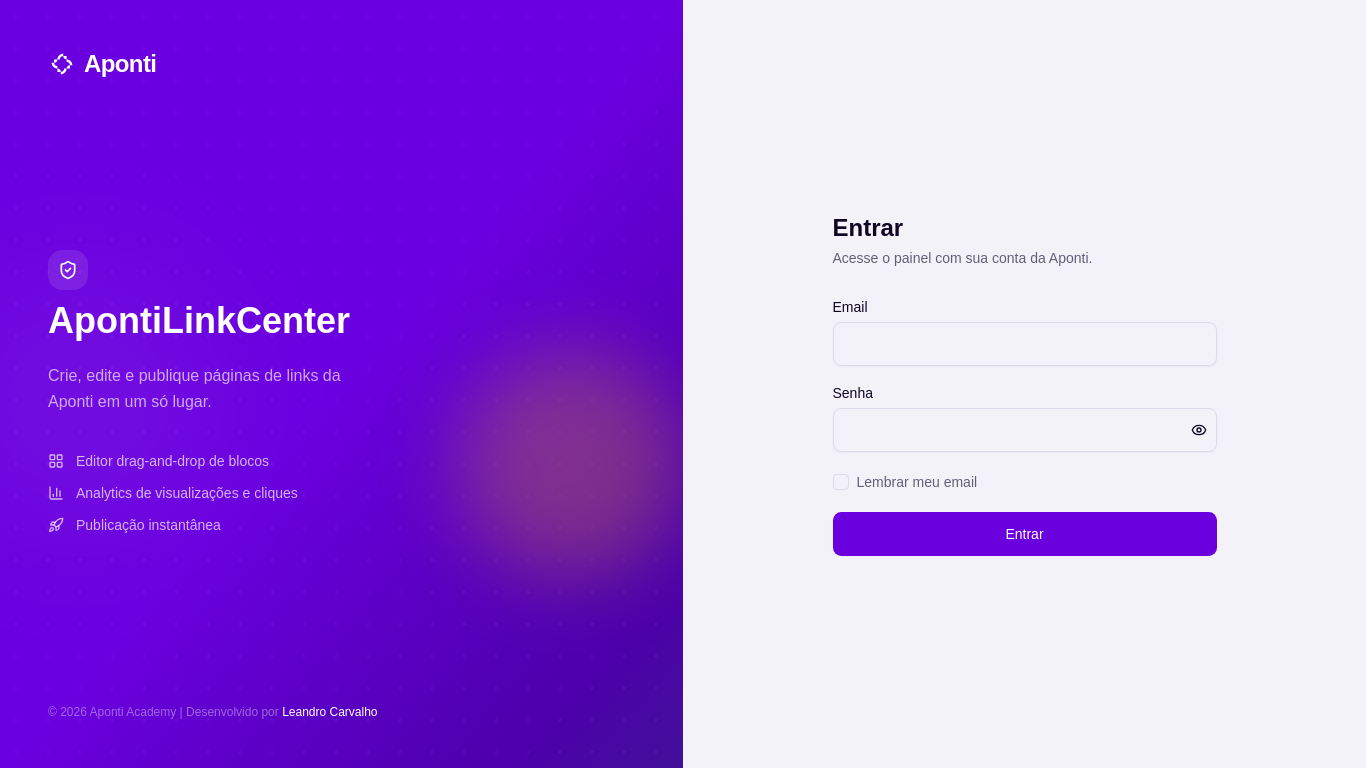
Test case: LoginPage › valida campos obrigatorios
Click the button "Entrar". click: (1024, 534)
box: x1=832 y1=512 x2=1216 y2=556
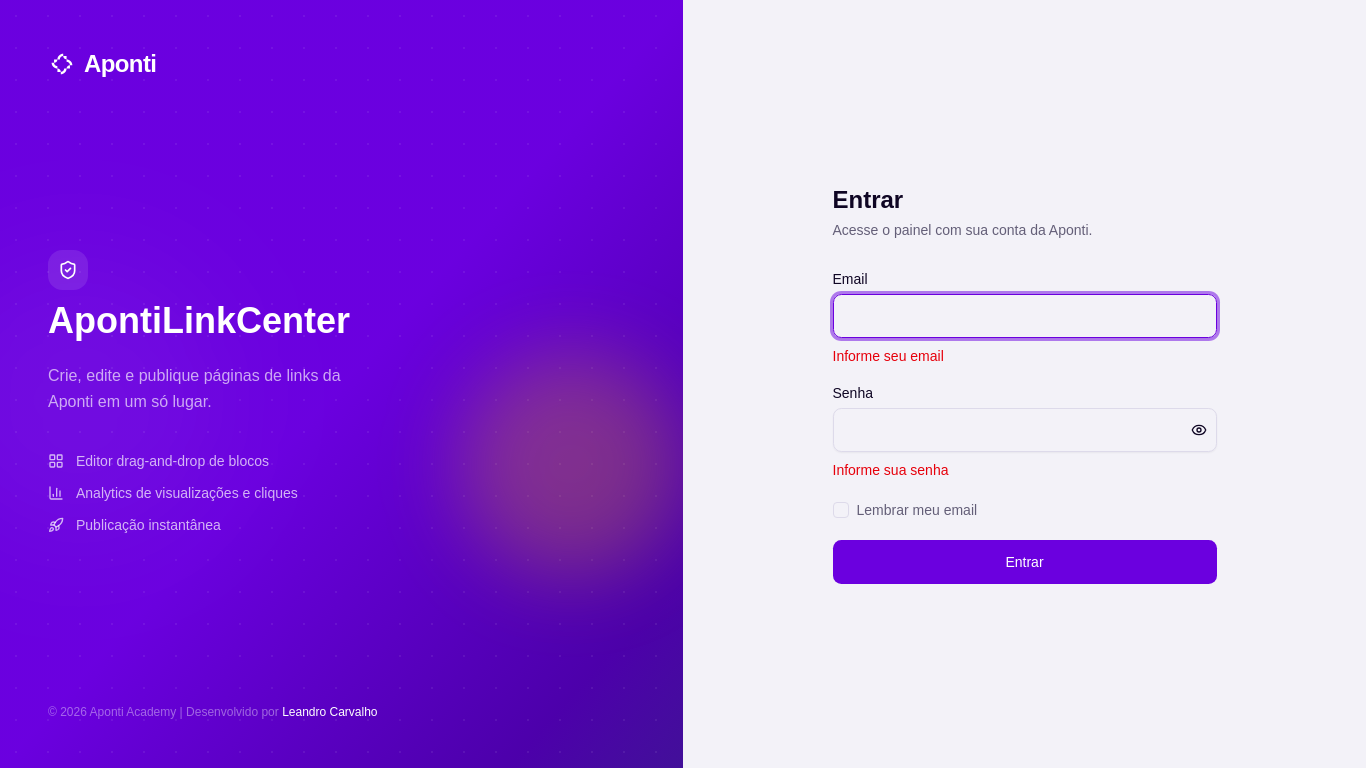
Expected: the text "Informe seu email" is shown, x1=832 y1=348 x2=944 y2=364
Expected: the text "Informe sua senha" is shown, x1=832 y1=462 x2=948 y2=478
